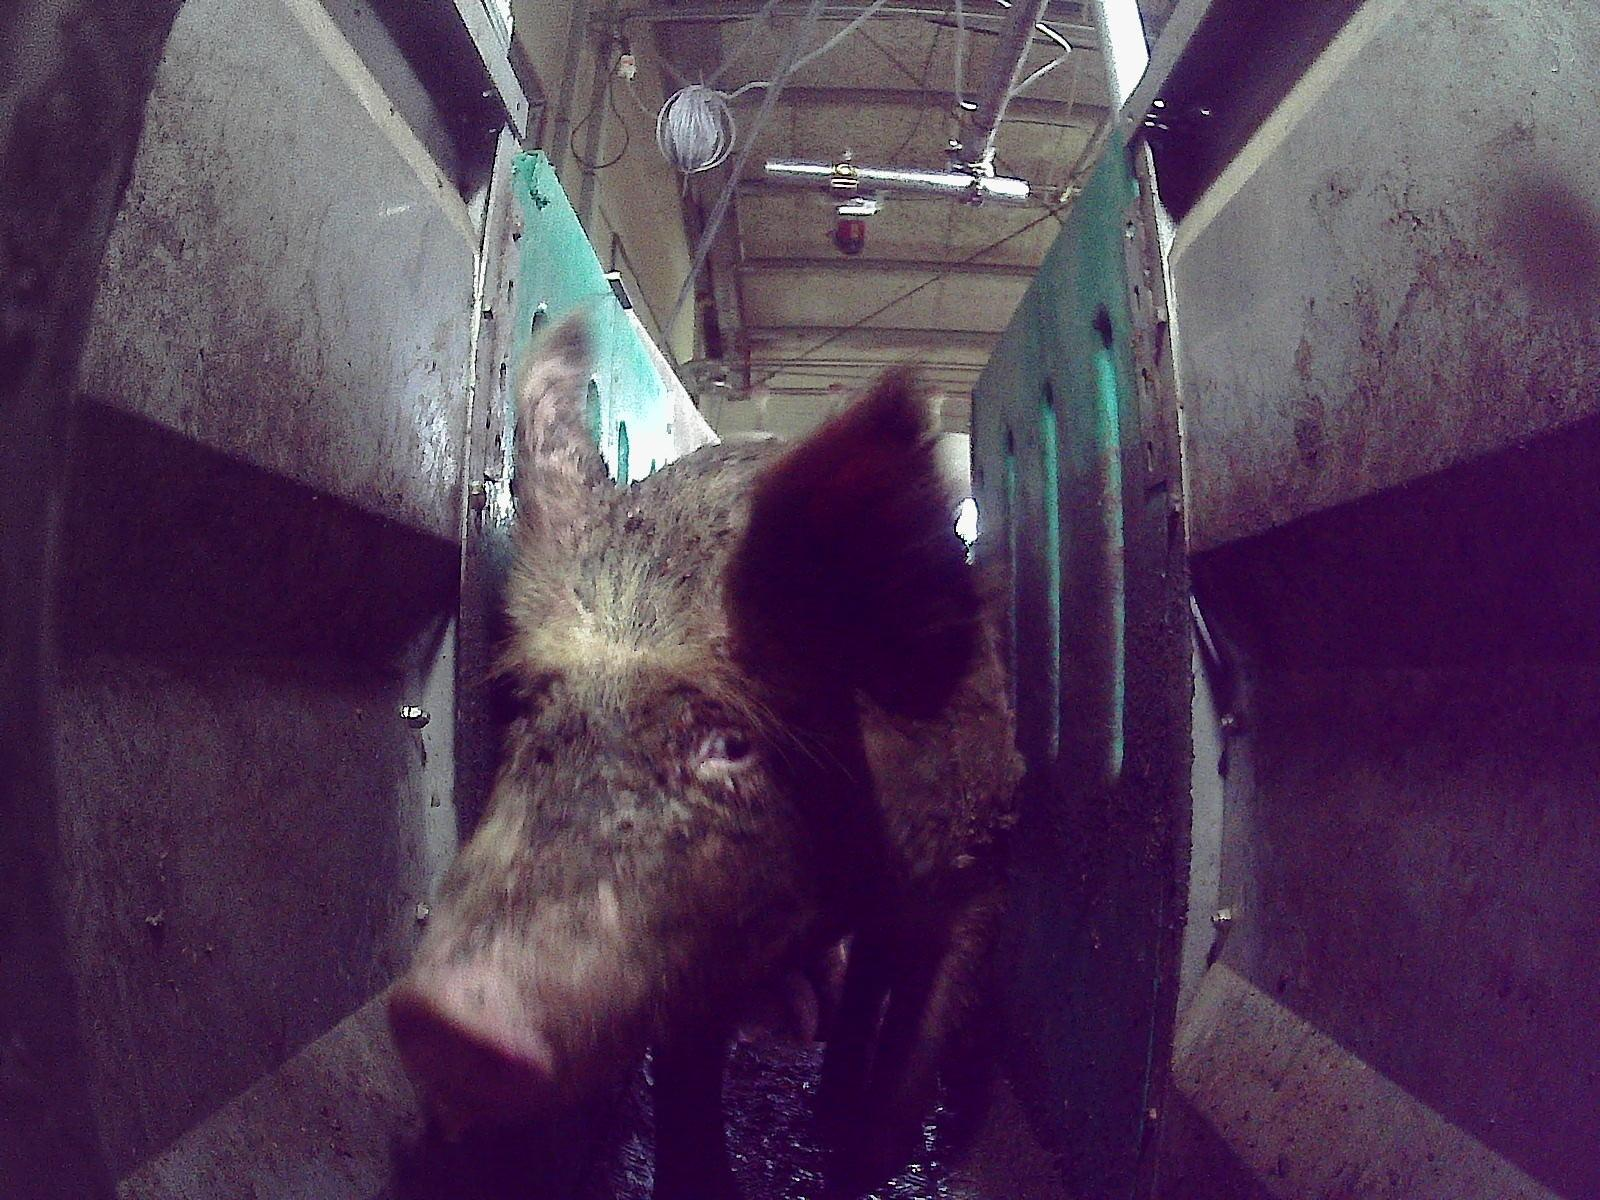Face: (383, 523, 815, 1107)
